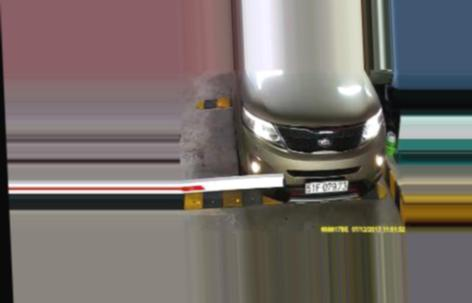License_Plate: (305, 180, 349, 196)
